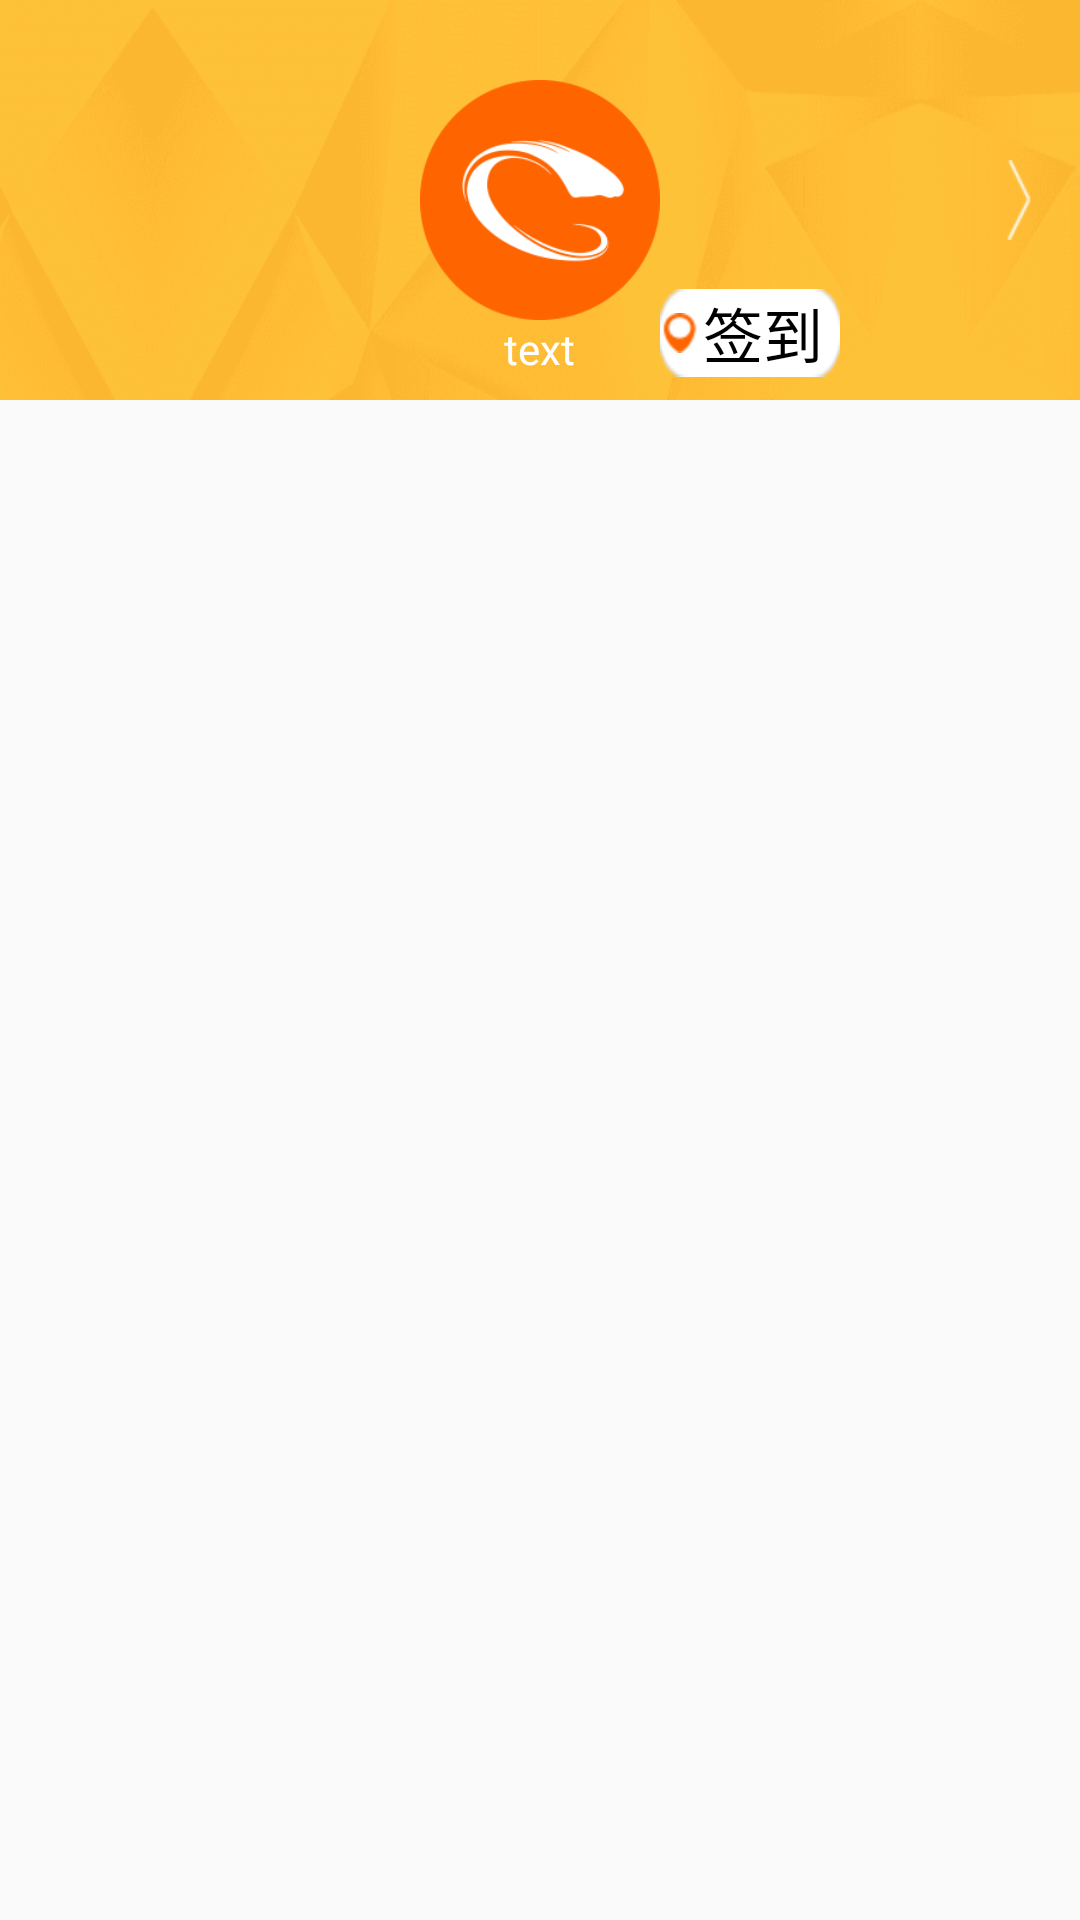

Named icons in this screenshot (1080 × 1920) and their centers, [x,y]:
detail desk: [1019,200]
